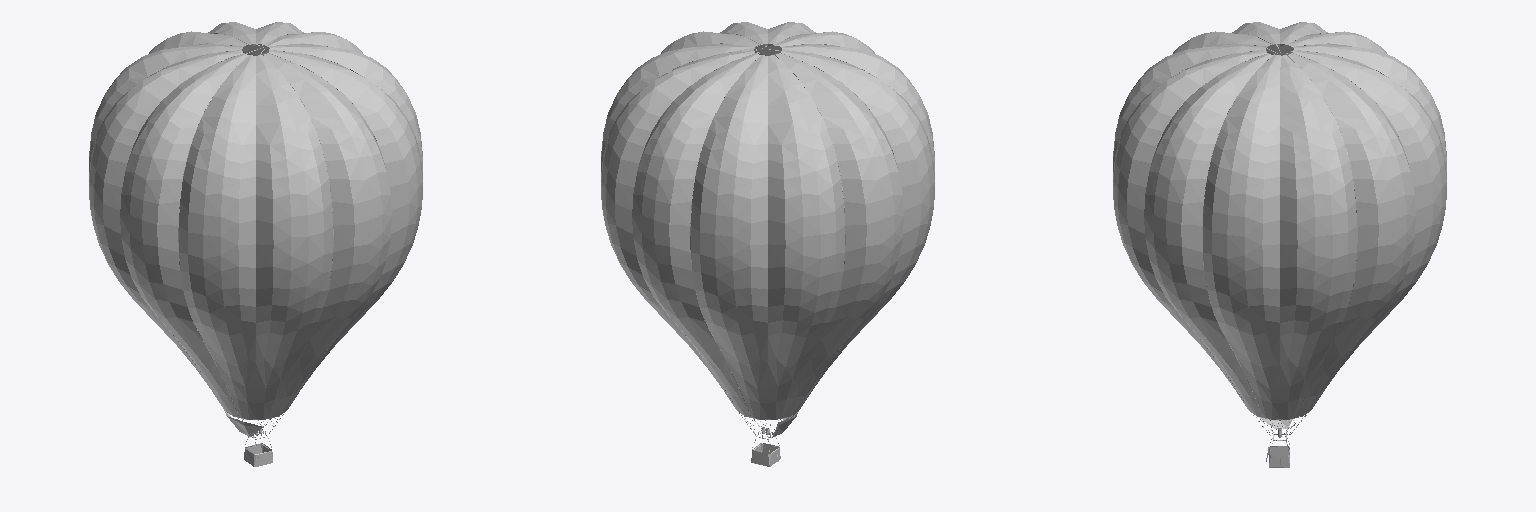
The model's file is globoaerostatico05_definitivo02-decimated.OBJ.
3 views of the same model, side by side, from view 1: azimuth 30°, elevation 25°; view 2: azimuth 150°, elevation 25°; view 3: azimuth 270°, elevation 25° (orthographic).
Visible parts, largest first — view 1: Group38414; view 2: Group38414; view 3: Group38414.
Boxes of the visible parts, x1=… form: Group38414: x1=89, y1=22, x2=422, y2=466; Group38414: x1=601, y1=22, x2=934, y2=466; Group38414: x1=1113, y1=22, x2=1446, y2=467.
Size of the model in its own units: 0.5029 by 0.6859 by 0.5023.